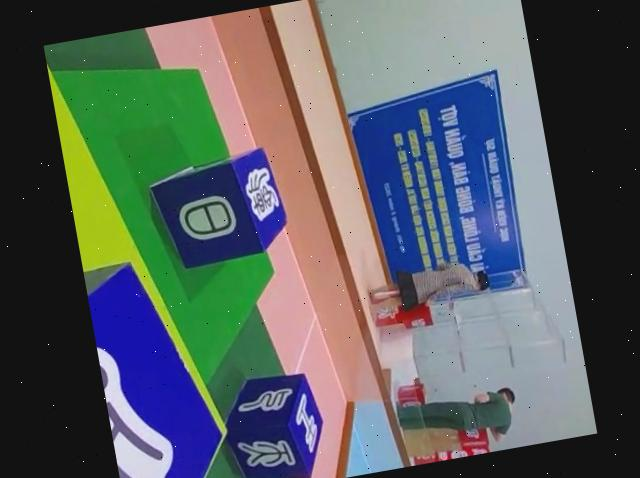R2 Fake Blue: (82, 247, 236, 478), (142, 144, 291, 273), (213, 367, 330, 478)
